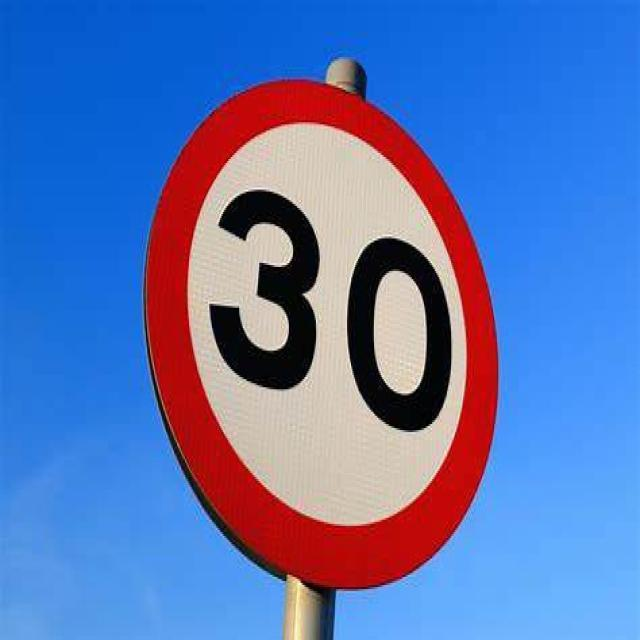speed limit 30: (135, 75, 503, 587)
